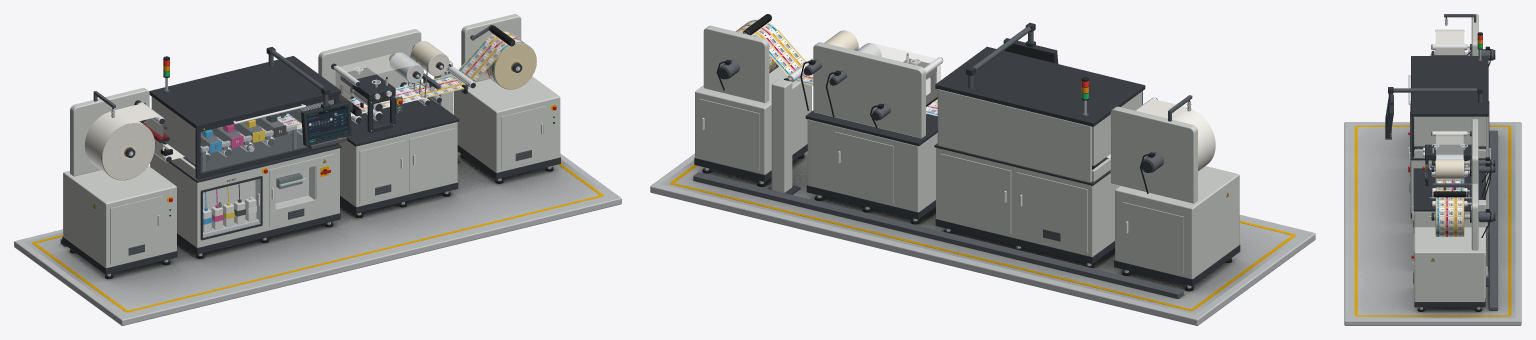
The model's file is digital.glb.
3 views of the same model, side by side, from view 1: azimuth 30°, elevation 25°; view 2: azimuth 150°, elevation 25°; view 3: azimuth 270°, elevation 25° (orthographic). The views are drawn at different scales.
Visible parts, largest first — view 1: socle, derouleur_tole_gris_clair, finition_tole_gris_clair, rembobineur_tole_gris_clair, capot_toit, impression_armoire, bande, finition_tole_anthracite, capot_vitre, impression_tole_anthracite, impression_polycarbonate, rotatif_1 (+14 smaller); view 2: socle, derouleur_tole_gris_clair, finition_tole_gris_clair, rembobineur_tole_gris_clair, capot_tole_gris_clair, impression_tole_gris_clair, capot_toit, impression_graphite, impression_armoire, bande, finition_tole_anthracite, renvoi_colonne (+6 smaller); view 3: socle, rembobineur_tole_gris_clair, capot_toit, capot_tole_gris_clair, finition_tole_anthracite, bande, impression_graphite, rotatif_10, finition_tole_gris_clair, rotatif_8, rembobineur_tole_anthracite, pupitre_graphite (+13 smaller).
Part boxes in pixels (bbox=[...]): socle: bbox=[14, 151, 621, 325]; derouleur_tole_gris_clair: bbox=[63, 88, 176, 267]; finition_tole_gris_clair: bbox=[318, 29, 457, 206]; rembobineur_tole_gris_clair: bbox=[453, 14, 560, 172]; capot_toit: bbox=[149, 56, 340, 128]; impression_armoire: bbox=[150, 148, 339, 247]; bande: bbox=[114, 40, 501, 159]; finition_tole_anthracite: bbox=[331, 45, 459, 213]; capot_vitre: bbox=[201, 100, 333, 171]; impression_tole_anthracite: bbox=[169, 132, 341, 254]; impression_polycarbonate: bbox=[203, 166, 315, 237]; rotatif_1: bbox=[84, 111, 155, 180]; socle: bbox=[650, 110, 1315, 325]; derouleur_tole_gris_clair: bbox=[1110, 106, 1239, 278]; finition_tole_gris_clair: bbox=[807, 42, 937, 212]; rembobineur_tole_gris_clair: bbox=[695, 25, 811, 174]; capot_tole_gris_clair: bbox=[937, 89, 1142, 182]; impression_tole_gris_clair: bbox=[940, 153, 1087, 252]; capot_toit: bbox=[935, 46, 1145, 126]; impression_graphite: bbox=[693, 172, 1183, 298]; impression_armoire: bbox=[936, 147, 1119, 256]; bande: bbox=[766, 30, 1186, 158]; finition_tole_anthracite: bbox=[803, 58, 937, 219]; renvoi_colonne: bbox=[771, 79, 792, 192]; socle: bbox=[1344, 122, 1521, 325]; rembobineur_tole_gris_clair: bbox=[1413, 183, 1485, 301]; capot_toit: bbox=[1411, 56, 1488, 116]; capot_tole_gris_clair: bbox=[1413, 116, 1488, 158]; finition_tole_anthracite: bbox=[1413, 131, 1495, 226]; bande: bbox=[1435, 32, 1464, 191]; impression_graphite: bbox=[1410, 130, 1497, 310]; rotatif_10: bbox=[1435, 197, 1464, 236]; finition_tole_gris_clair: bbox=[1413, 119, 1478, 232]; rotatif_8: bbox=[1435, 159, 1464, 179]; rembobineur_tole_anthracite: bbox=[1413, 191, 1495, 307]; pupitre_graphite: bbox=[1385, 88, 1482, 139].
Bounding box in the file's own units: 5.6 × 1.89 × 2.1.
44 materials, 14 textured.
